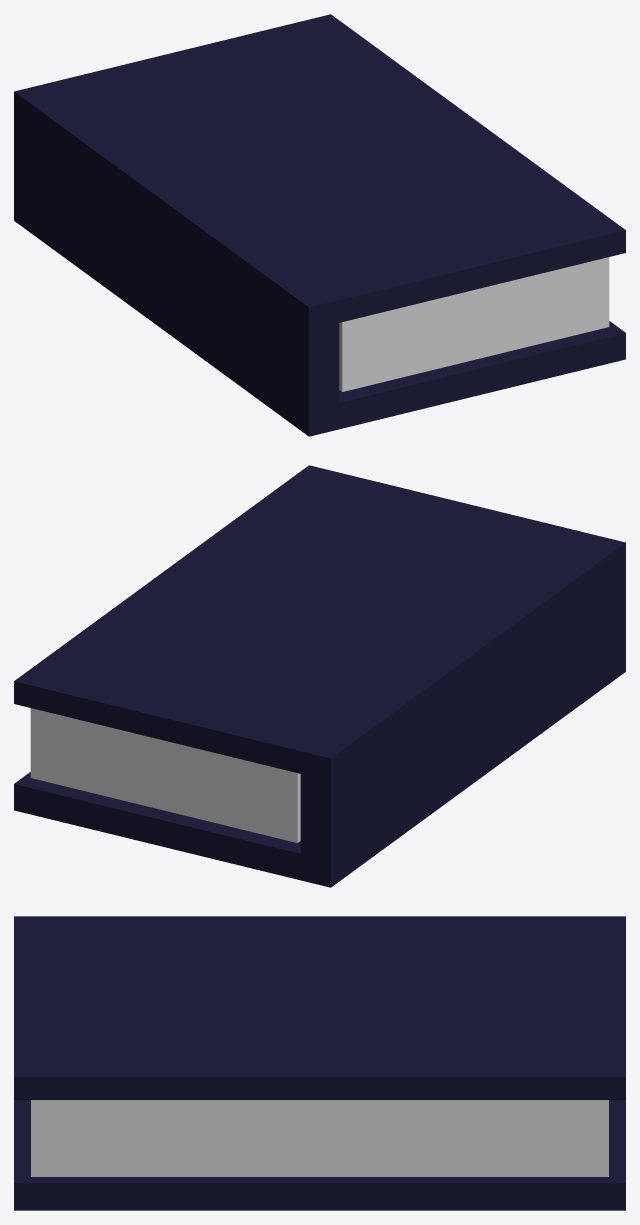
File: book.fbx
The picture shows the model from 3 angles, top to bottom: view 1: azimuth 30°, elevation 25°; view 2: azimuth 150°, elevation 25°; view 3: azimuth 270°, elevation 25°; orthographic projection. The views are drawn at different scales.
Parts seen in each view (by area): view 1: pCube2, pCube3; view 2: pCube2, pCube3; view 3: pCube2, pCube3.
Boxes of the visible parts, x1,y1,x2,y2 form: pCube2: (14, 14, 625, 436); pCube3: (339, 257, 609, 391); pCube2: (14, 465, 625, 887); pCube3: (30, 708, 300, 842); pCube2: (14, 916, 625, 1210); pCube3: (31, 1100, 608, 1176).
Bounding box in the file's own units: 7.63 × 2.97 × 12.31.
